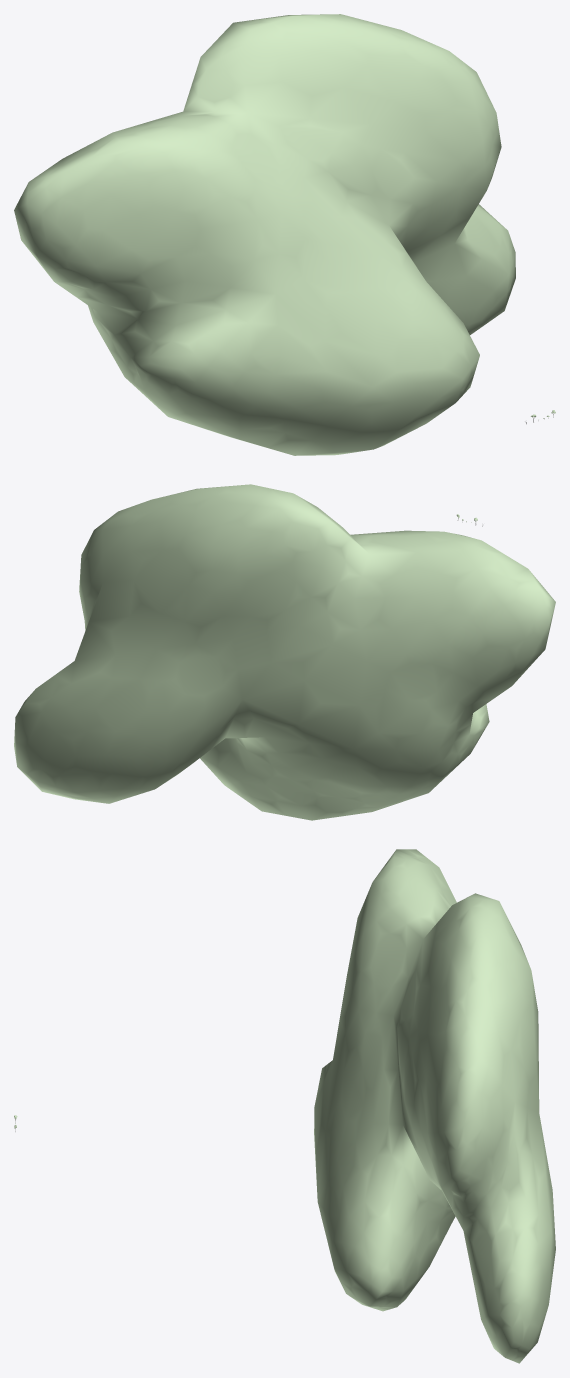
The model's file is trees_0001.fbx.
3 views of the same model, one above another, from view 1: azimuth 30°, elevation 25°; view 2: azimuth 150°, elevation 25°; view 3: azimuth 270°, elevation 25° (orthographic). The views are drawn at different scales.
Visible parts, largest first — view 1: Polygon_2; view 2: Polygon_2; view 3: Polygon_2.
Part boxes in pixels (bbox=[...]): Polygon_2: bbox=[14, 14, 515, 455]; Polygon_2: bbox=[14, 484, 555, 820]; Polygon_2: bbox=[314, 849, 555, 1363].
Size of the model in its own units: 46024 by 32332 by 42100.
